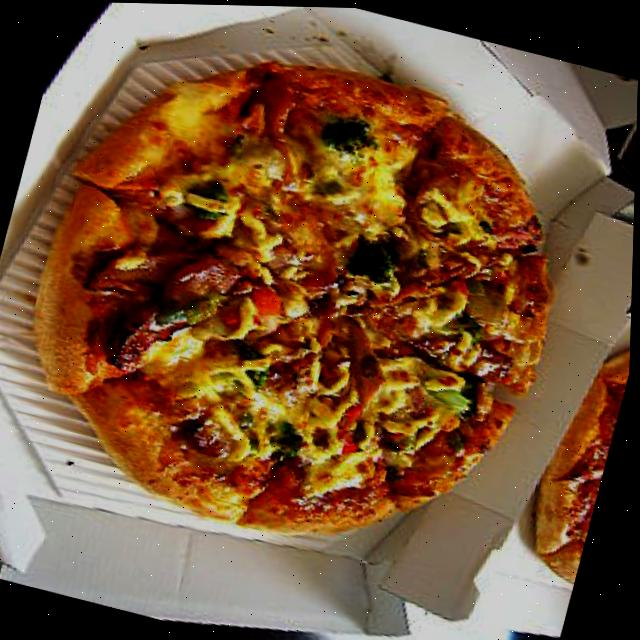汉堡快餐: (0, 1, 620, 605)
